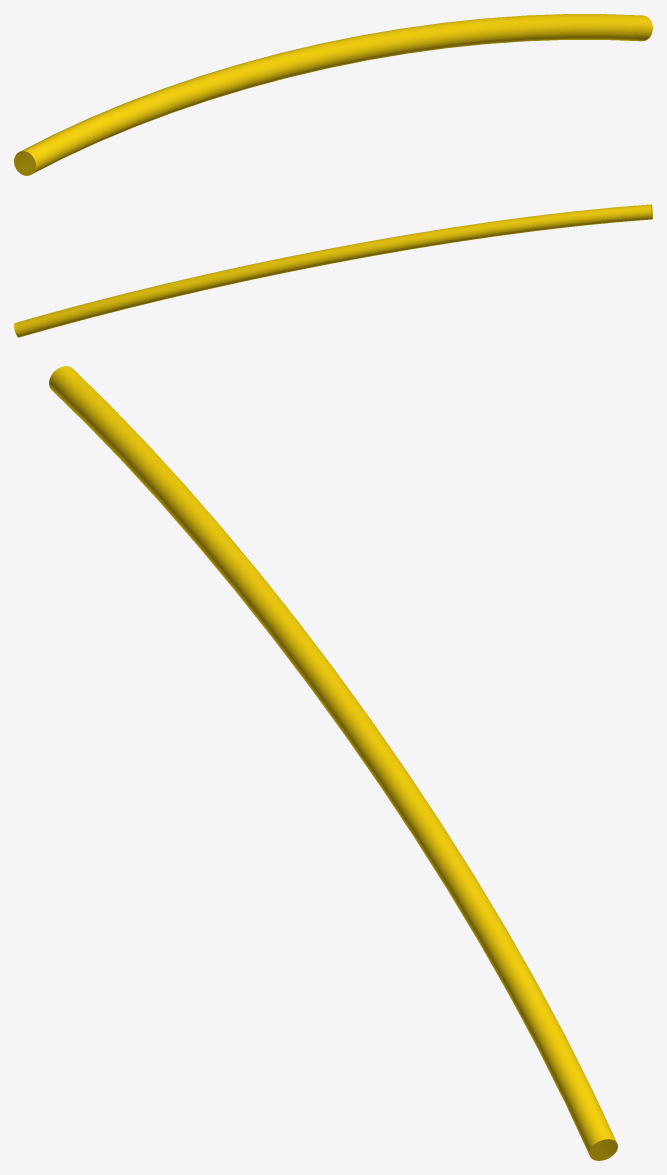
Rendered from Event_421127236_track_26.fbx.
3 views of the same model, one above another, from view 1: azimuth 30°, elevation 25°; view 2: azimuth 150°, elevation 25°; view 3: azimuth 270°, elevation 25° (orthographic). The views are drawn at different scales.
Visible parts, largest first — view 1: Model; view 2: Model; view 3: Model.
Part boxes in pixels (x1,y1,x2,y2): Model: (14, 14, 652, 175); Model: (14, 204, 652, 337); Model: (49, 366, 617, 1160).
Size of the model in its own units: 1.53 by 0.4477 by 0.7466.
